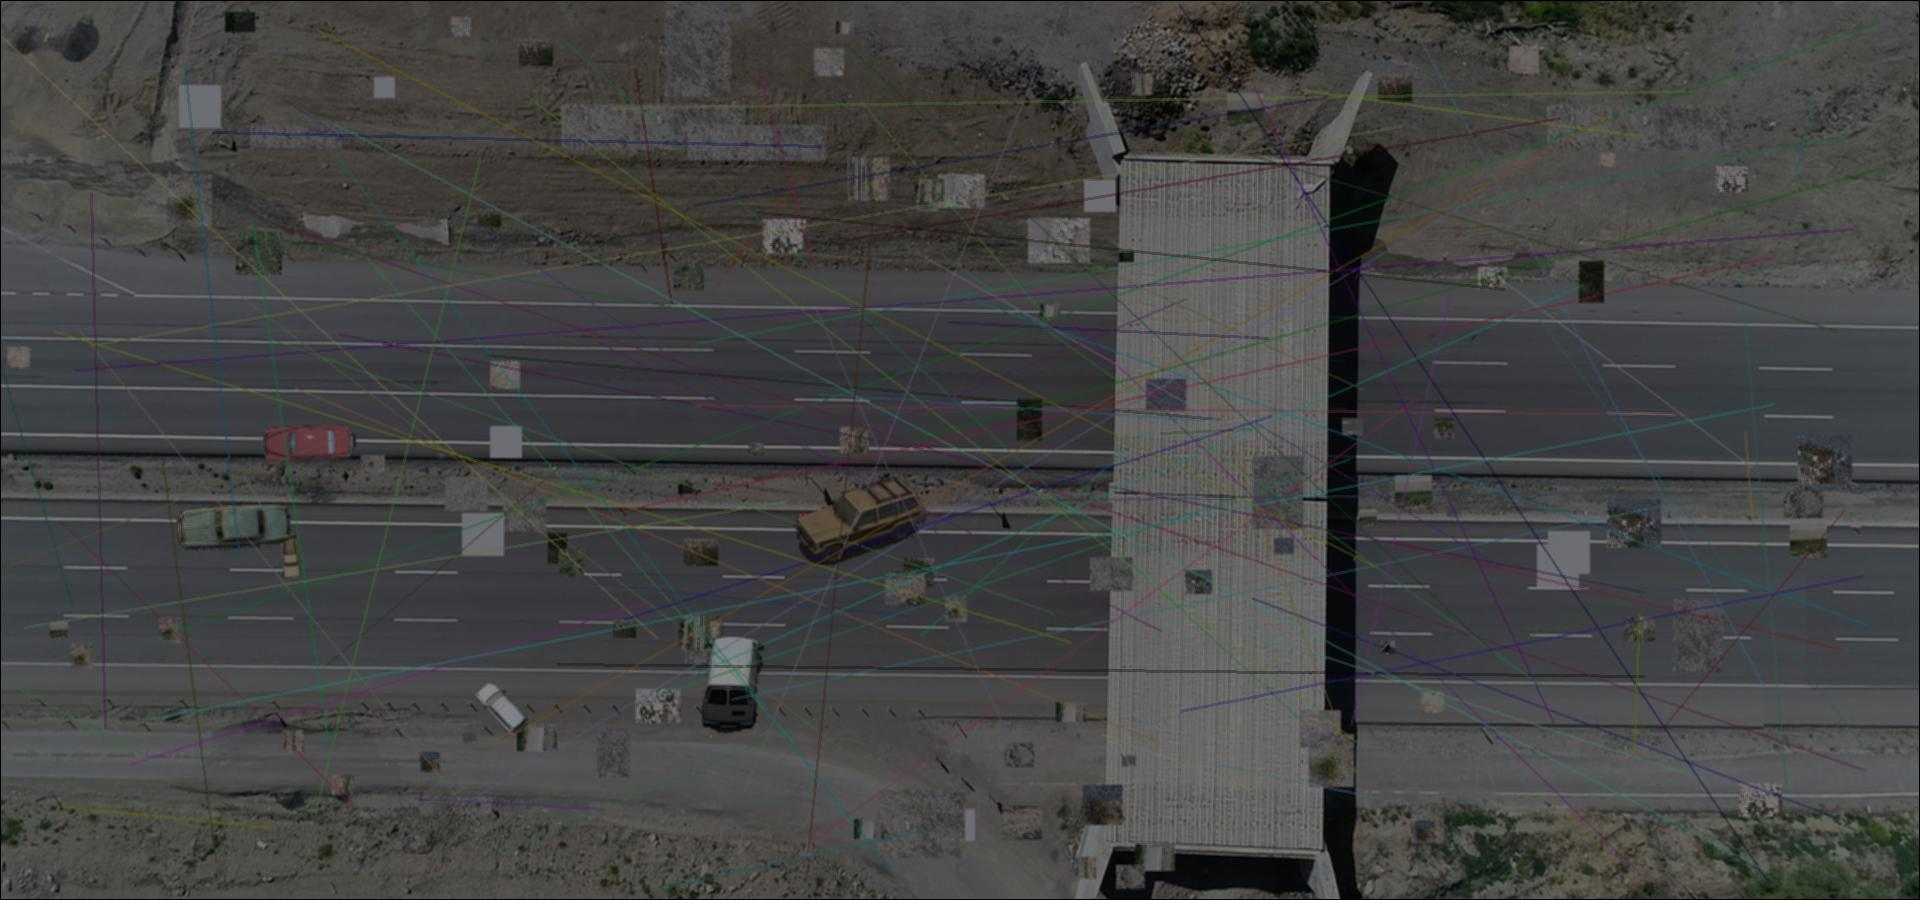arac: (797, 474, 926, 564), (699, 633, 764, 733), (171, 502, 296, 550), (791, 503, 902, 547), (262, 425, 360, 462), (474, 677, 530, 736), (279, 534, 302, 579)
